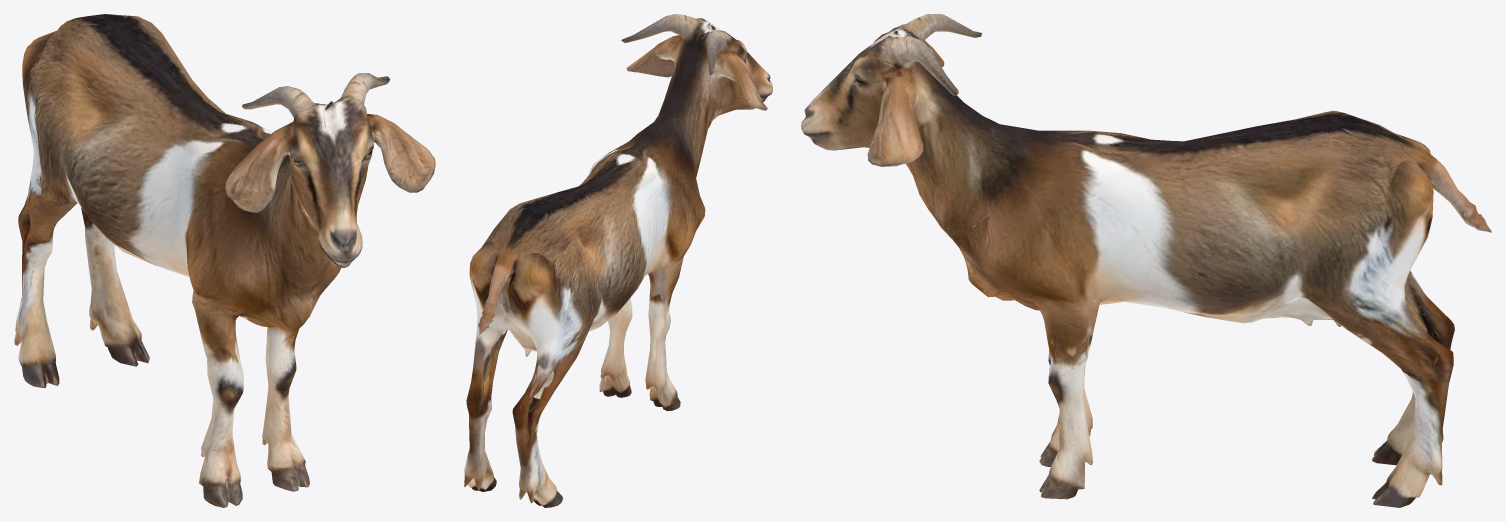
The model's file is goat.glb.
3 renders of one model, left to right at view 1: azimuth 30°, elevation 25°; view 2: azimuth 150°, elevation 25°; view 3: azimuth 270°, elevation 25°, orthographic. The views are drawn at different scales.
Parts seen in each view (by area): view 1: Object_4; view 2: Object_4; view 3: Object_4.
Part boxes in pixels (x1,y1,x2,y2): Object_4: [14, 14, 435, 507]; Object_4: [464, 14, 772, 507]; Object_4: [801, 14, 1491, 507].
Bounding box in the file's own units: 0.6087 × 1.39 × 1.91.
Materials: 1 (1 with a texture image).
